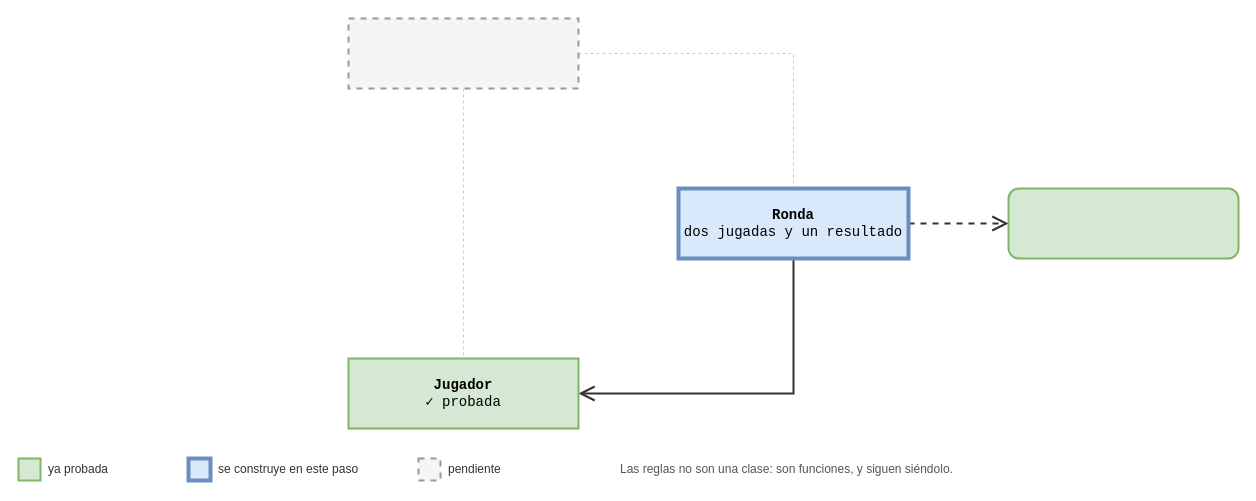
The diagram is 1256 pixels wide and 501 high, and some of its shapes have lost their labels. Each missing label, with the centre of its shape:
Partida pendiente: [463,53]
reglas funciones · ✓ probadas: [1123,223]
